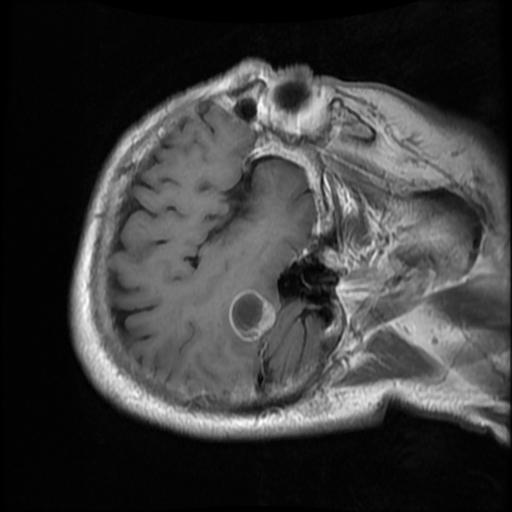glioma: (229, 289, 275, 343)
